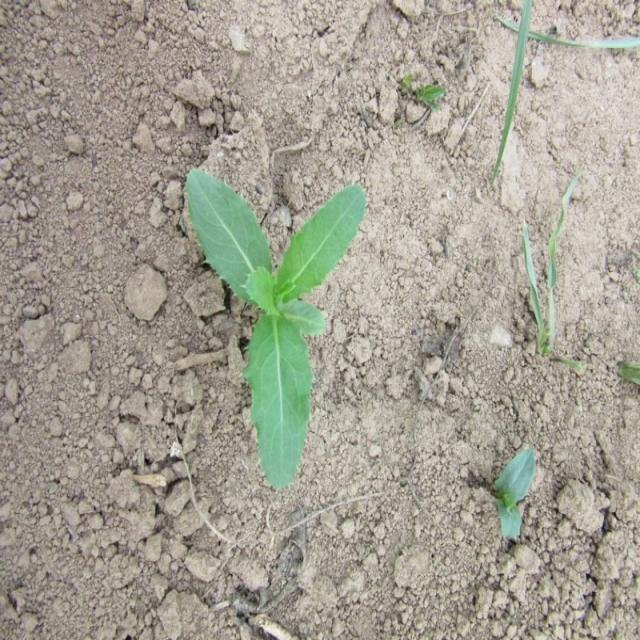cs: (183, 157, 369, 499)
